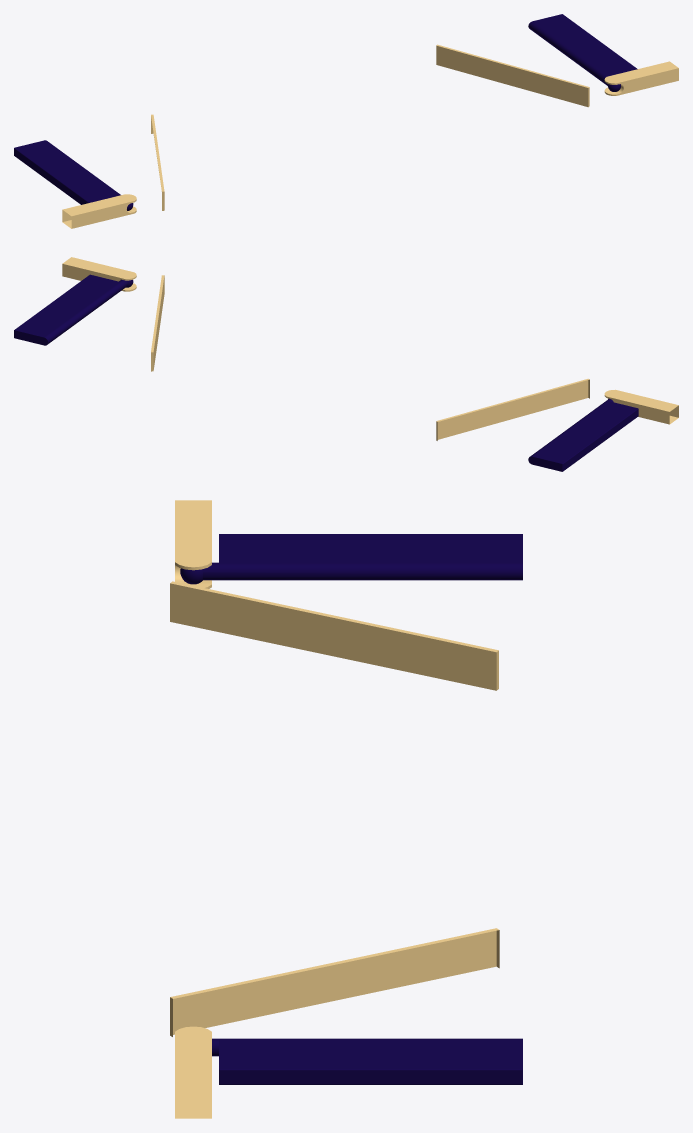
File: sweepers.glb
3 views of the same model, one above another, from view 1: azimuth 30°, elevation 25°; view 2: azimuth 150°, elevation 25°; view 3: azimuth 270°, elevation 25° (orthographic). The views are drawn at different scales.
Parts seen in each view (by area): view 1: right-door, right-sweeper, left-sweeper, left-base, right-base, left-flap, left-door; view 2: right-sweeper, left-door, left-sweeper, left-flap, left-base, right-base, right-flap, right-door; view 3: left-sweeper, left-door, right-door, right-sweeper, right-flap, right-base, left-base.
Part boxes in pixels (<box>): right-door: <box>436,44,589,107</box>; right-sweeper: <box>528,14,637,91</box>; left-sweeper: <box>14,140,133,210</box>; left-base: <box>62,194,136,228</box>; right-base: <box>604,61,678,95</box>; left-flap: <box>14,148,98,204</box>; left-door: <box>151,114,164,210</box>; right-sweeper: <box>14,275,133,345</box>; left-door: <box>436,378,589,440</box>; left-sweeper: <box>528,398,628,471</box>; left-flap: <box>553,406,638,471</box>; left-base: <box>604,389,678,424</box>; right-base: <box>62,257,136,291</box>; right-flap: <box>14,274,98,337</box>; right-door: <box>151,275,164,371</box>; left-sweeper: <box>180,534,522,584</box>; left-door: <box>170,581,498,690</box>; right-door: <box>170,928,499,1036</box>; right-sweeper: <box>212,1038,522,1068</box>; right-flap: <box>219,1060,522,1084</box>; right-base: <box>175,1026,211,1118</box>; left-base: <box>175,500,211,588</box>.
Bounding box in the file's own units: 1.32 × 0.04 × 0.332.
